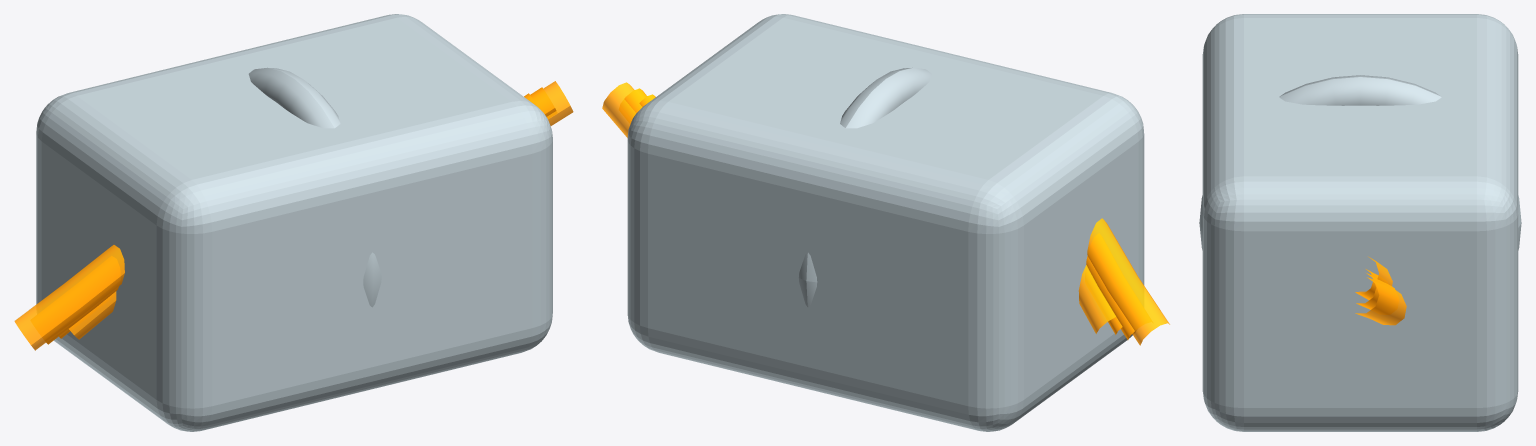
File: transmission_hydraulics_13.glb
3 renders of one model, left to right at view 1: azimuth 30°, elevation 25°; view 2: azimuth 150°, elevation 25°; view 3: azimuth 270°, elevation 25°, orthographic.
Parts seen in each view (by area): view 1: asset_mesh__transmission_hydraulics_0782__reference_body, asset_mesh__transmission_hydraulics_0827__fluid_path, asset_mesh__transmission_hydraulics_0781__functional_ring, asset_mesh__transmission_hydraulics_0824__fluid_path, asset_mesh__transmission_hydraulics_0817__fluid_path; view 2: asset_mesh__transmission_hydraulics_0782__reference_body, asset_mesh__transmission_hydraulics_0827__fluid_path, asset_mesh__transmission_hydraulics_0781__functional_ring, asset_mesh__transmission_hydraulics_0824__fluid_path, asset_mesh__transmission_hydraulics_0817__fluid_path; view 3: asset_mesh__transmission_hydraulics_0782__reference_body, asset_mesh__transmission_hydraulics_0781__functional_ring, asset_mesh__transmission_hydraulics_0827__fluid_path.
Boxes of the visible parts, <box> form: asset_mesh__transmission_hydraulics_0782__reference_body: <box>36,14,552,431</box>; asset_mesh__transmission_hydraulics_0827__fluid_path: <box>14,81,573,350</box>; asset_mesh__transmission_hydraulics_0781__functional_ring: <box>248,67,381,307</box>; asset_mesh__transmission_hydraulics_0824__fluid_path: <box>69,291,116,339</box>; asset_mesh__transmission_hydraulics_0817__fluid_path: <box>46,87,556,344</box>; asset_mesh__transmission_hydraulics_0782__reference_body: <box>627,14,1144,431</box>; asset_mesh__transmission_hydraulics_0827__fluid_path: <box>602,82,1169,345</box>; asset_mesh__transmission_hydraulics_0781__functional_ring: <box>798,67,931,307</box>; asset_mesh__transmission_hydraulics_0824__fluid_path: <box>1078,265,1116,333</box>; asset_mesh__transmission_hydraulics_0817__fluid_path: <box>624,88,1134,339</box>; asset_mesh__transmission_hydraulics_0782__reference_body: <box>1202,14,1518,431</box>; asset_mesh__transmission_hydraulics_0781__functional_ring: <box>1199,75,1521,250</box>; asset_mesh__transmission_hydraulics_0827__fluid_path: <box>1355,277,1406,325</box>.
Size of the model in its own units: 1.73 by 0.8573 by 0.8573.
